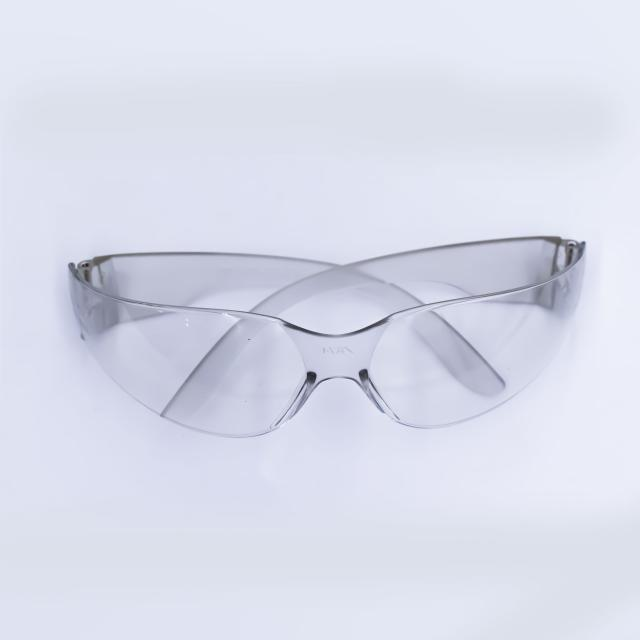Protective Glasses: (52, 195, 608, 481)
